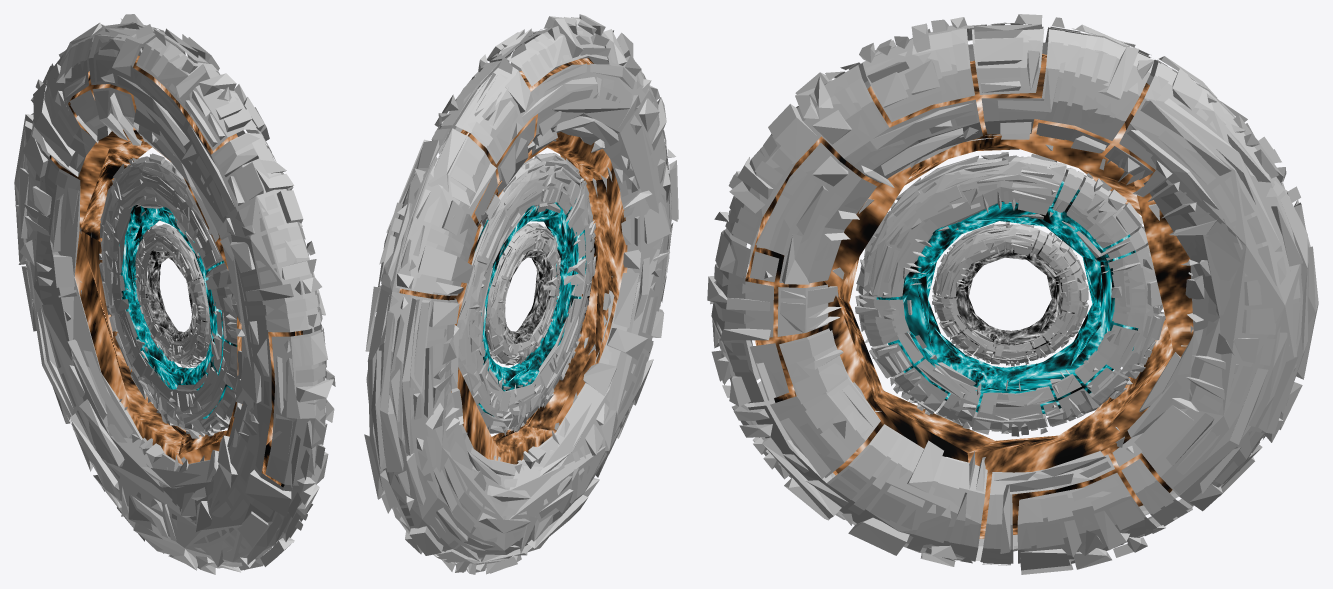
File: Dyson_Rings.fbx
The picture shows the model from 3 angles, left to right: view 1: azimuth 30°, elevation 25°; view 2: azimuth 150°, elevation 25°; view 3: azimuth 270°, elevation 25°; orthographic projection. The views are drawn at different scales.
Visible parts, largest first — view 1: Ring Out, Ring Mid, Ring In; view 2: Ring Out, Ring Mid, Ring In; view 3: Ring Out, Ring Mid, Ring In.
Boxes of the visible parts, bbox=[...] form: Ring Out: bbox=[14, 14, 335, 574]; Ring Mid: bbox=[99, 153, 237, 438]; Ring In: bbox=[135, 224, 211, 367]; Ring Out: bbox=[364, 14, 678, 574]; Ring Mid: bbox=[457, 153, 596, 435]; Ring In: bbox=[485, 223, 560, 365]; Ring Out: bbox=[707, 14, 1318, 574]; Ring Mid: bbox=[855, 152, 1165, 436]; Ring In: bbox=[932, 222, 1088, 366].
Bounding box in the file's own units: 436 × 2977 × 2971.
